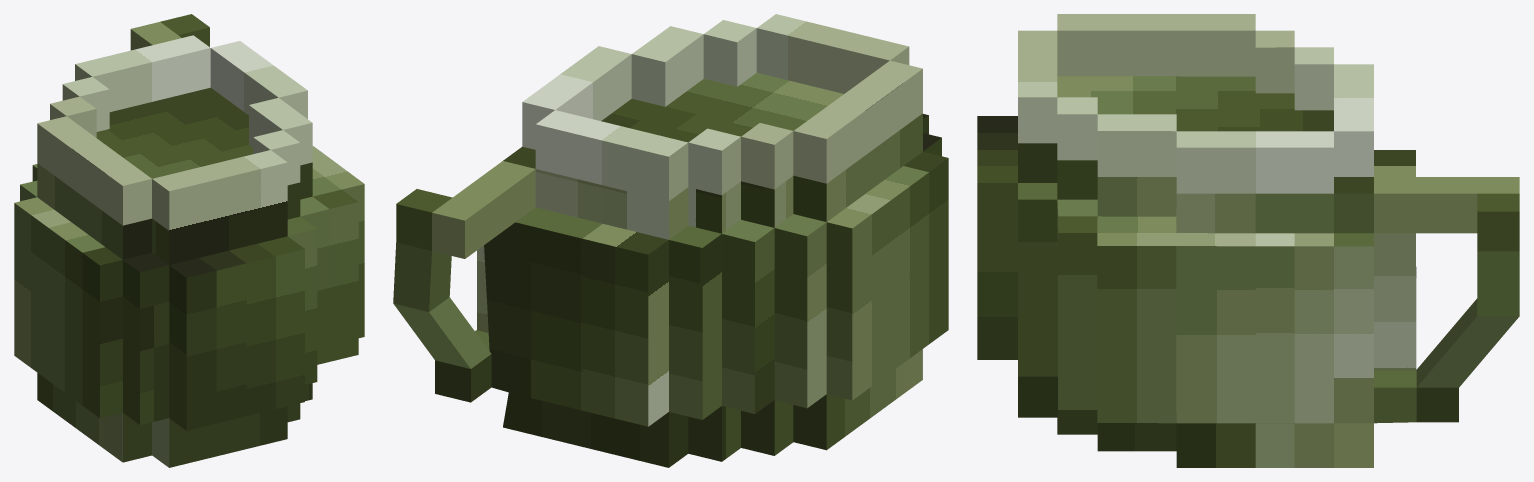
The model's file is pitcher_824x00.gltf.
The picture shows the model from 3 angles, left to right: view 1: azimuth 30°, elevation 25°; view 2: azimuth 150°, elevation 25°; view 3: azimuth 270°, elevation 25°; orthographic projection. The views are drawn at different scales.
Visible parts, largest first — view 1: pitcher_824x00; view 2: pitcher_824x00; view 3: pitcher_824x00.
Part boxes in pixels (x1,y1,x2,y2): pitcher_824x00: (14, 14, 364, 467); pitcher_824x00: (393, 14, 948, 467); pitcher_824x00: (977, 14, 1519, 467).
Size of the model in its own units: 0.588 by 0.5283 by 0.8107.
1 material, 1 textured.
